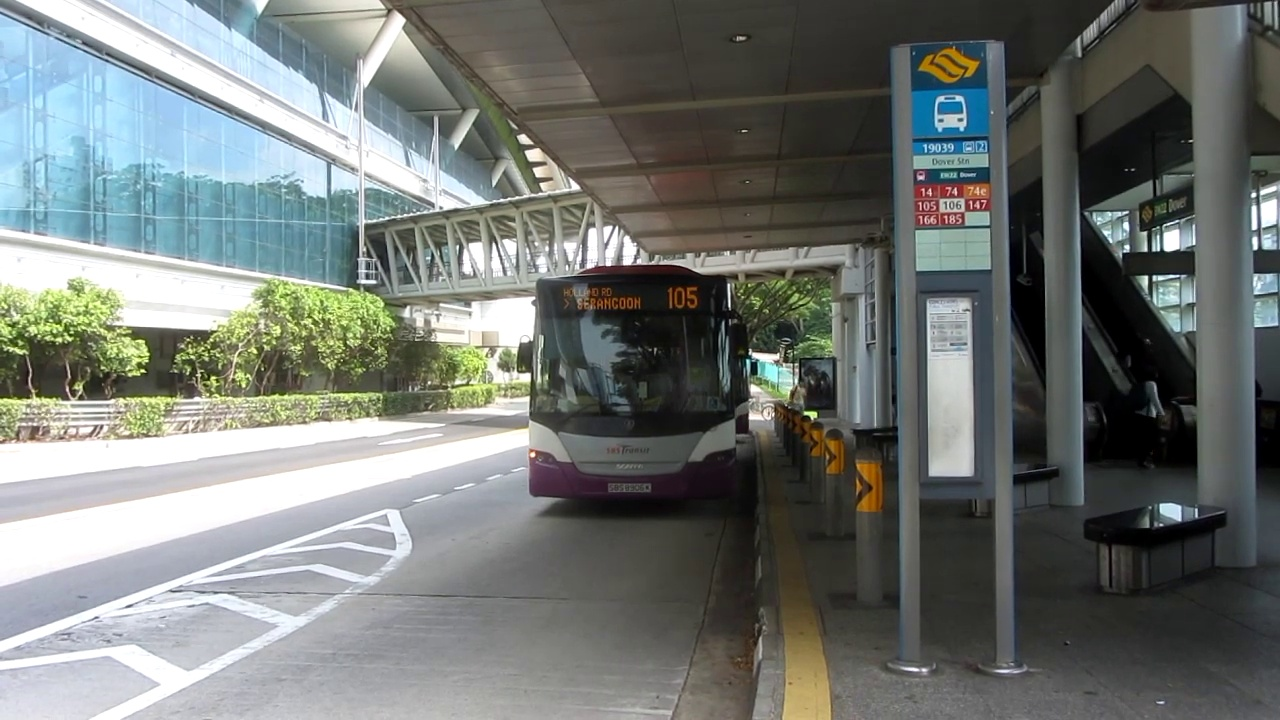bus panel: (560, 283, 702, 313)
